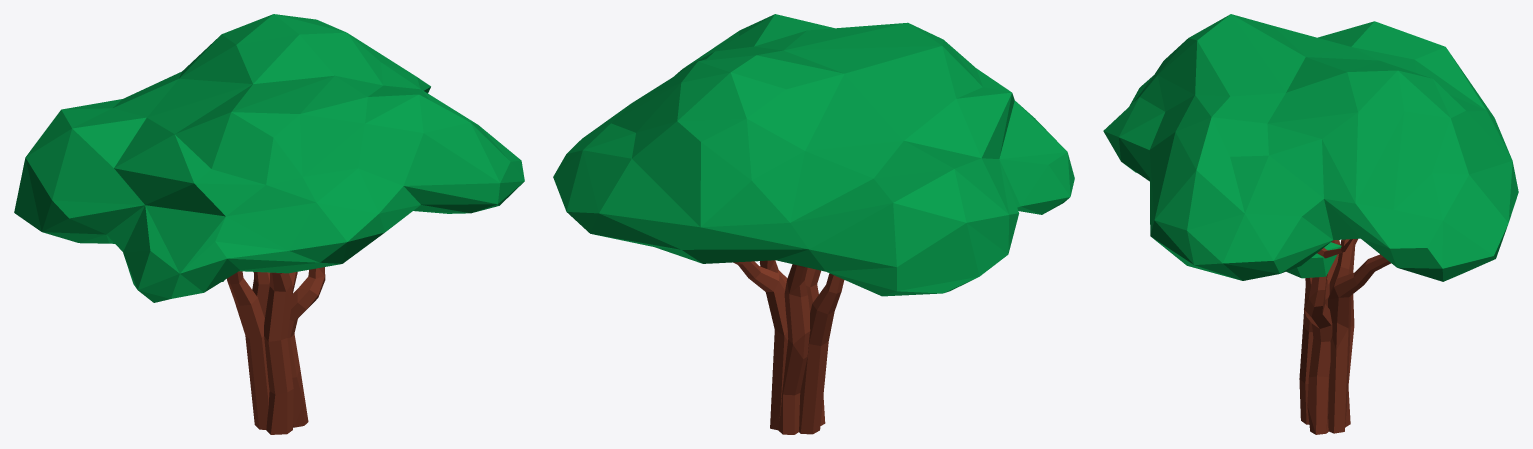
File: Tree_1.fbx
3 views of the same model, side by side, from view 1: azimuth 30°, elevation 25°; view 2: azimuth 150°, elevation 25°; view 3: azimuth 270°, elevation 25° (orthographic). The views are drawn at different scales.
Parts seen in each view (by area): view 1: Tree_1; view 2: Tree_1; view 3: Tree_1.
Boxes of the visible parts, box(x1,y1,x2,y2) form: Tree_1: box(14, 14, 524, 434); Tree_1: box(553, 14, 1074, 434); Tree_1: box(1103, 14, 1518, 434).
Bounding box in the file's own units: 6.19 × 5.37 × 5.5.
